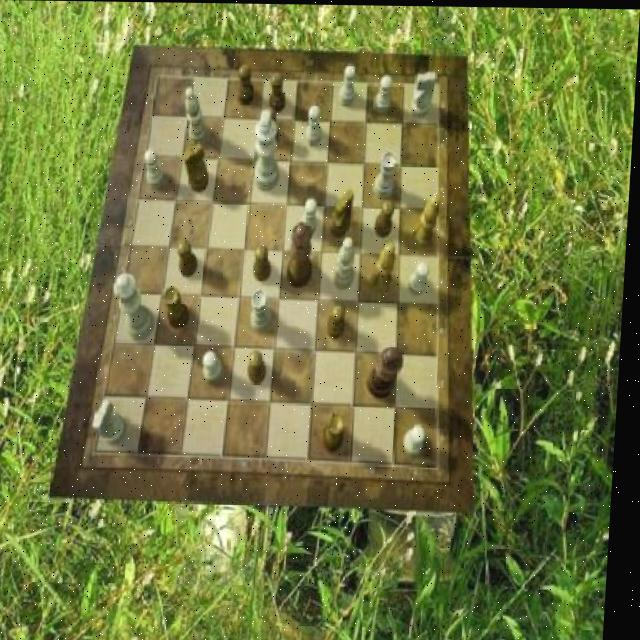bishop: (415, 194, 443, 248), (372, 241, 398, 294)
black-bishop: (369, 346, 407, 399)
black-king: (182, 142, 212, 194), (331, 188, 356, 238)
black-knight: (237, 65, 257, 106), (179, 241, 201, 277), (376, 200, 397, 237), (262, 106, 281, 146), (269, 72, 288, 112), (256, 245, 275, 281), (251, 351, 270, 385), (332, 303, 351, 337)
black-pawn: (288, 221, 317, 287)
black-queen: (165, 285, 194, 328), (326, 412, 350, 452)
black-rook: (184, 87, 211, 146), (335, 236, 359, 289)
white-bishop: (254, 108, 285, 190)
white-king: (96, 400, 132, 444), (410, 71, 437, 117)
white-knight: (144, 150, 167, 188), (338, 64, 357, 106), (306, 104, 324, 146), (410, 260, 431, 295), (408, 423, 430, 456), (205, 350, 227, 383), (375, 74, 394, 112), (302, 197, 320, 235)
white-pawn: (114, 274, 160, 341)
white-queen: (375, 151, 399, 198), (253, 288, 277, 331)
